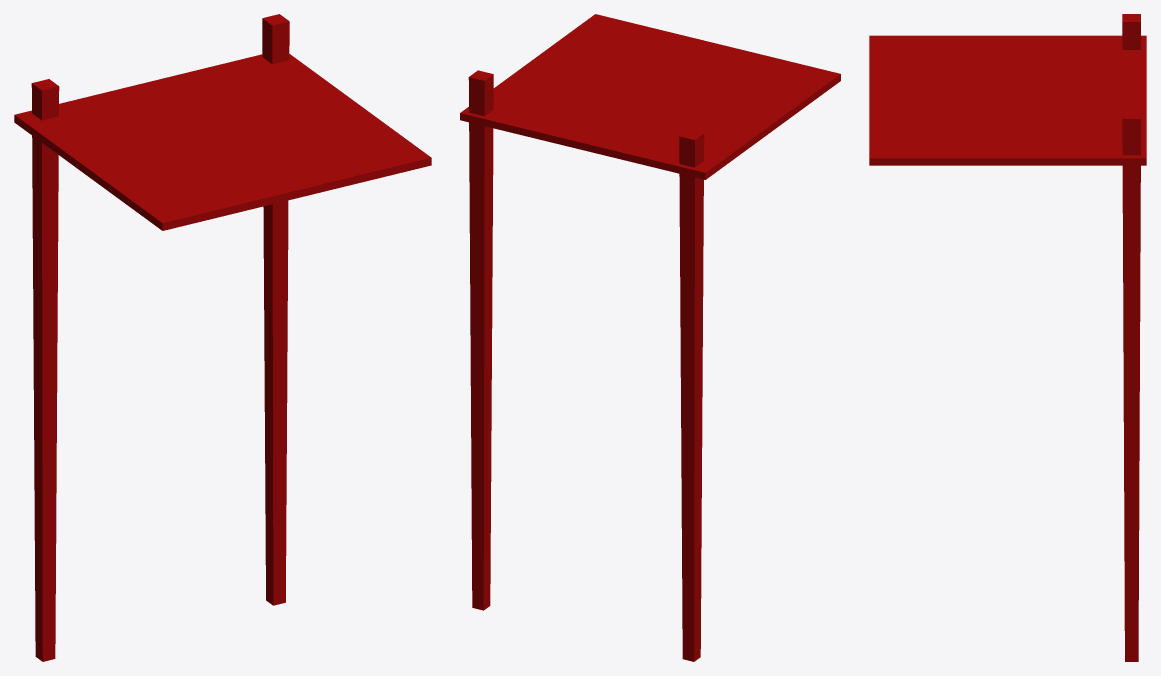
File: SM_Env_Dock_02_Collision.glb
3 views of the same model, side by side, from view 1: azimuth 30°, elevation 25°; view 2: azimuth 150°, elevation 25°; view 3: azimuth 270°, elevation 25° (orthographic). The views are drawn at different scales.
Visible parts, largest first — view 1: SM_Env_Dock_02_Collision; view 2: SM_Env_Dock_02_Collision; view 3: SM_Env_Dock_02_Collision.
Boxes of the visible parts, x1,y1,x2,y2 form: SM_Env_Dock_02_Collision: (14, 14, 431, 661); SM_Env_Dock_02_Collision: (460, 14, 840, 661); SM_Env_Dock_02_Collision: (869, 14, 1146, 661).
Size of the model in its own units: 3.73 by 7.71 by 3.56.
